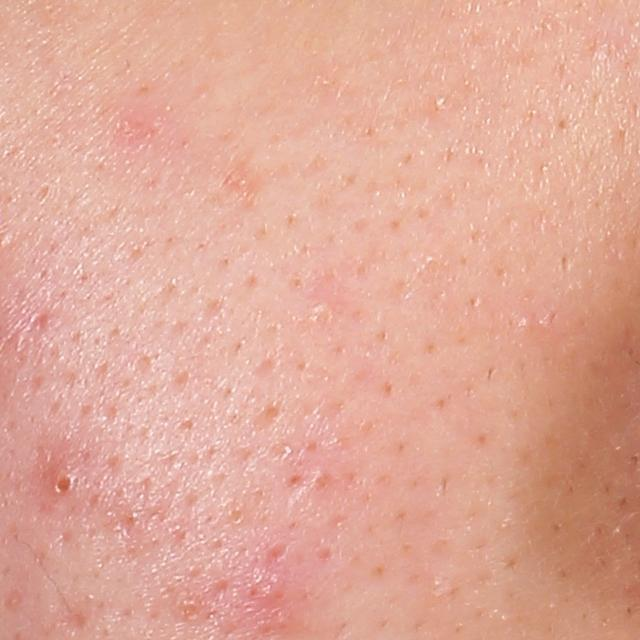atrophic_scar: (60, 600, 93, 636)
